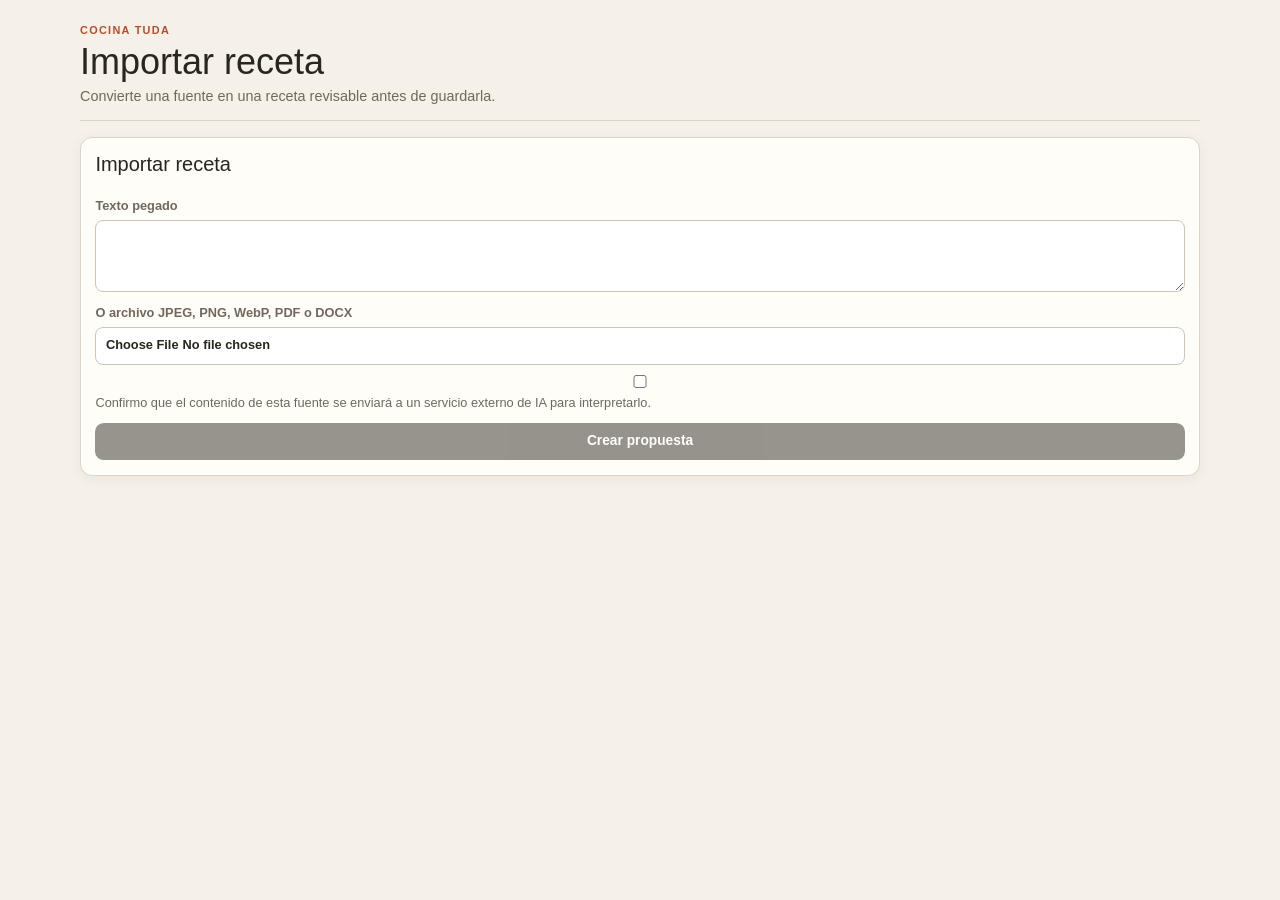
Test: ImportWorkspace › blocks normalized collisions until the user selects the existing entity
Type "receta" into the text box labelled "Texto pegado" at (640, 256), box [95,220,1185,292]
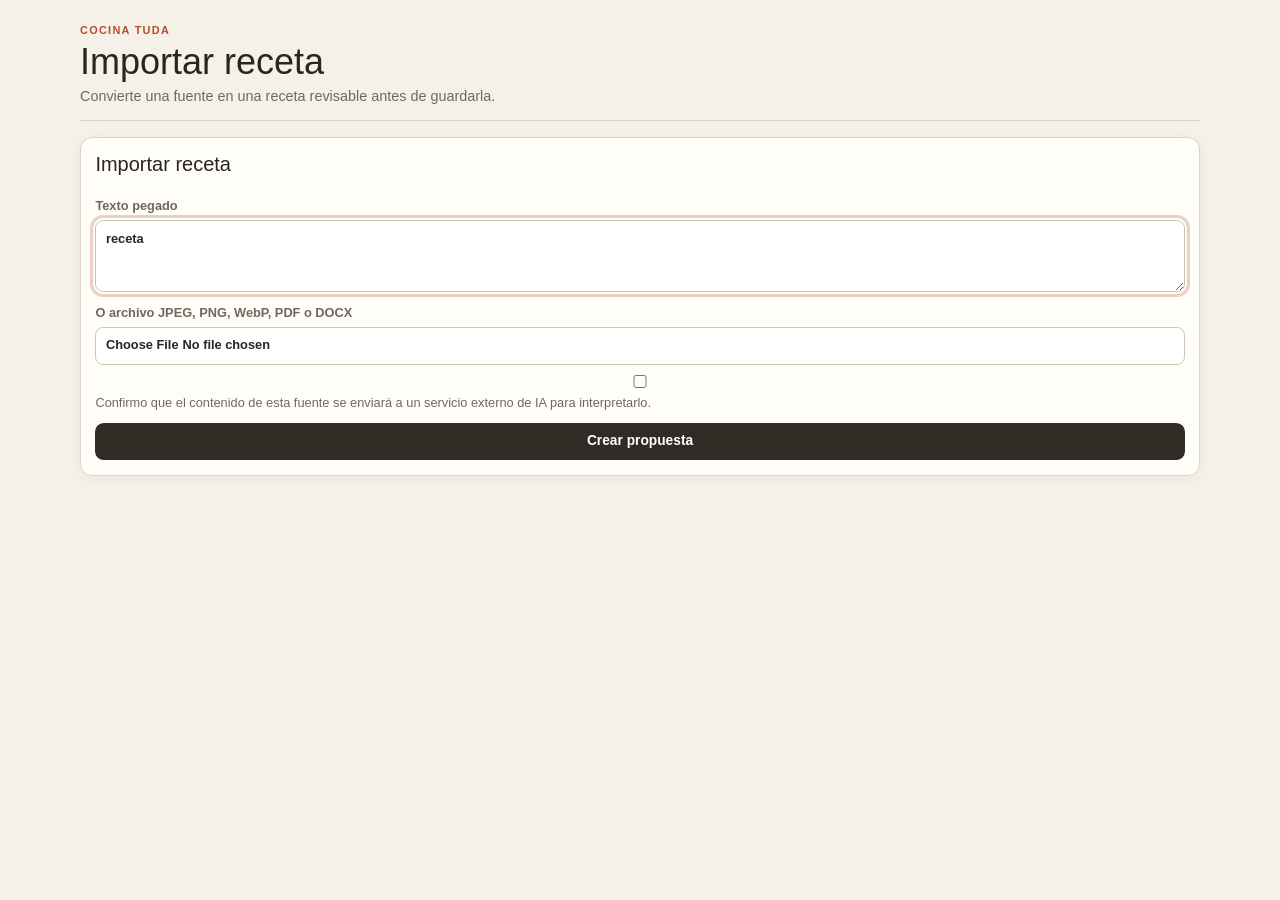
Click the checkbox labelled "Confirmo que el contenido" at (640, 382), box [95,376,1185,388]
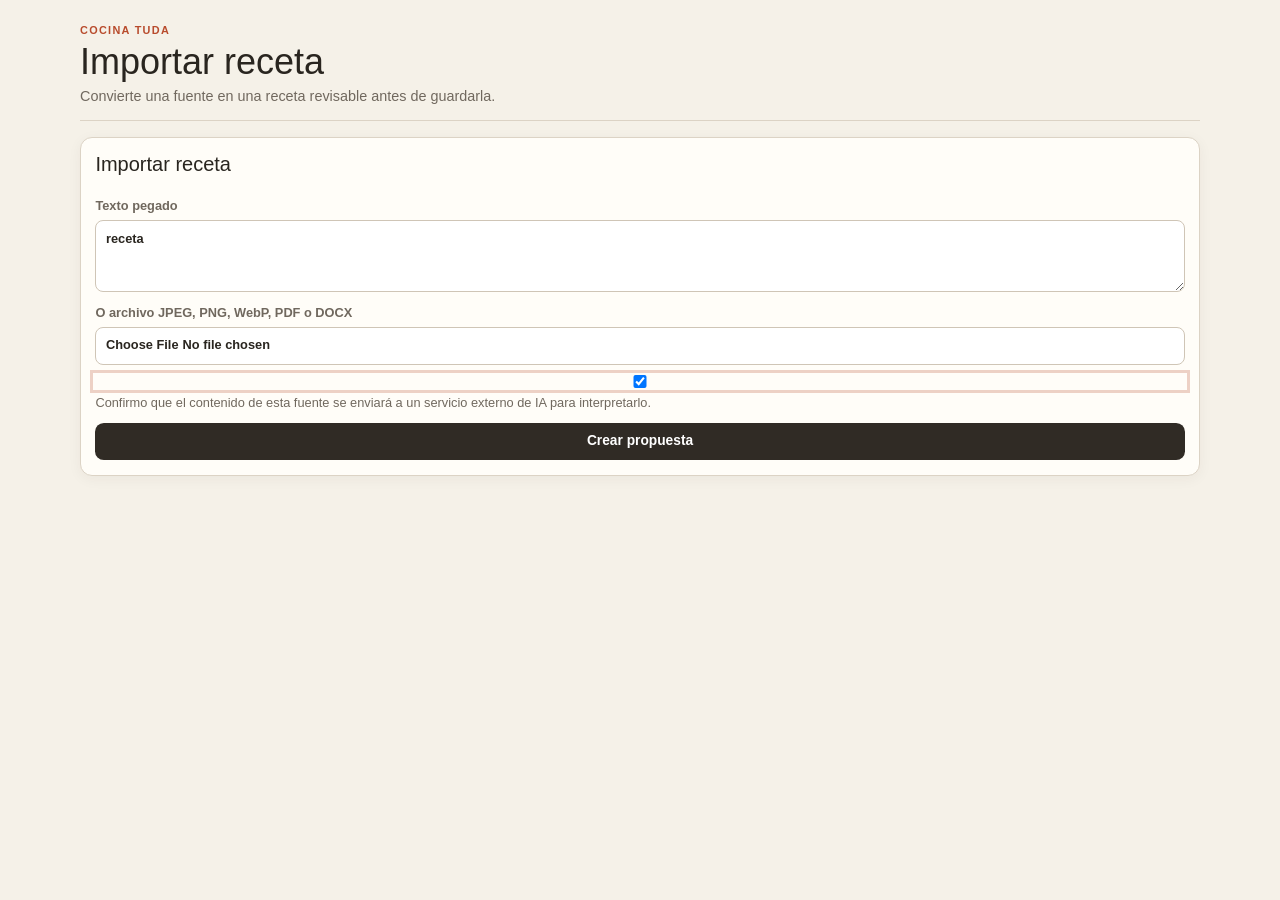
Click the button "Crear propuesta" at (640, 442), box [95,423,1185,460]
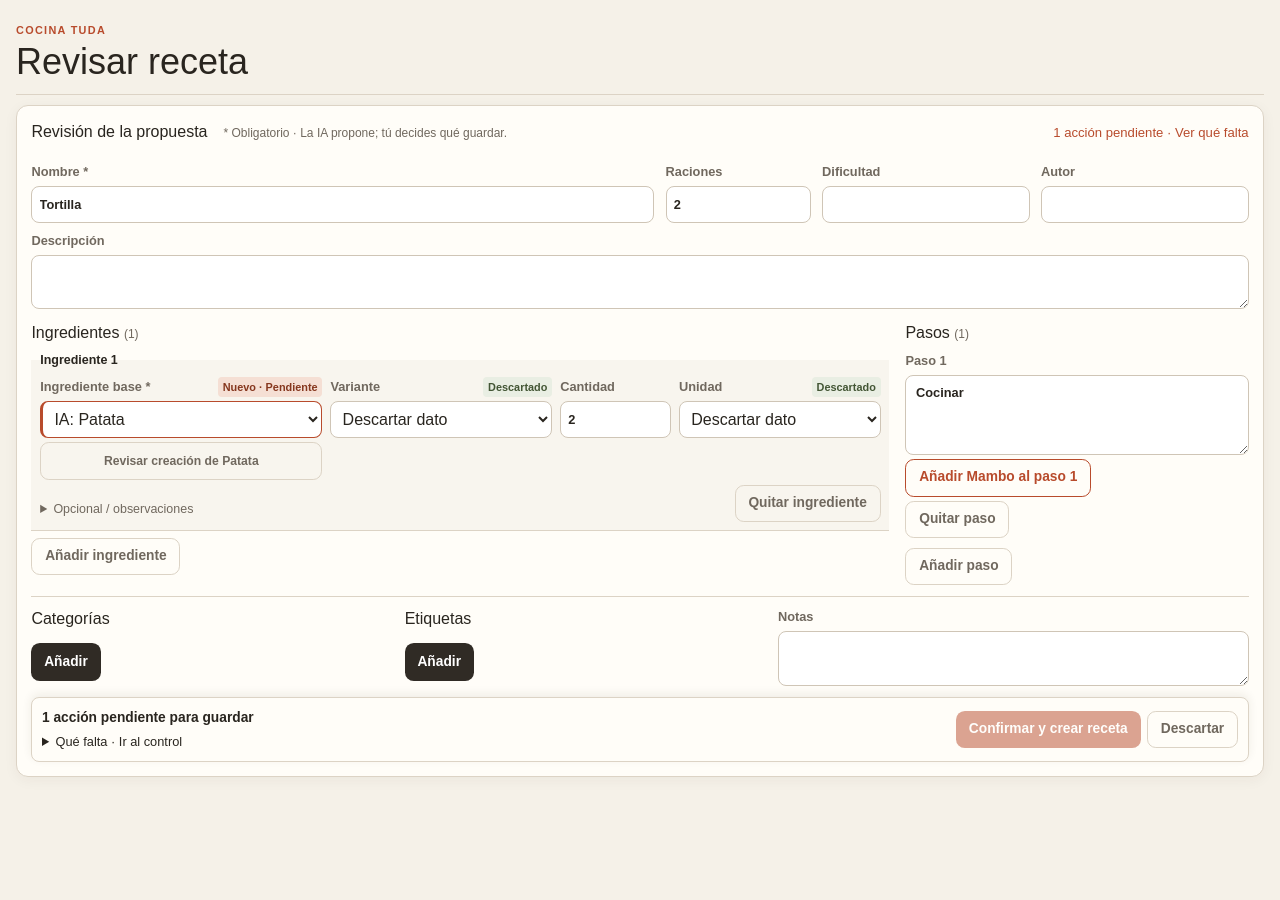
Click the button "Revisar creación de Patata" at (181, 461), box [40,442,322,480]
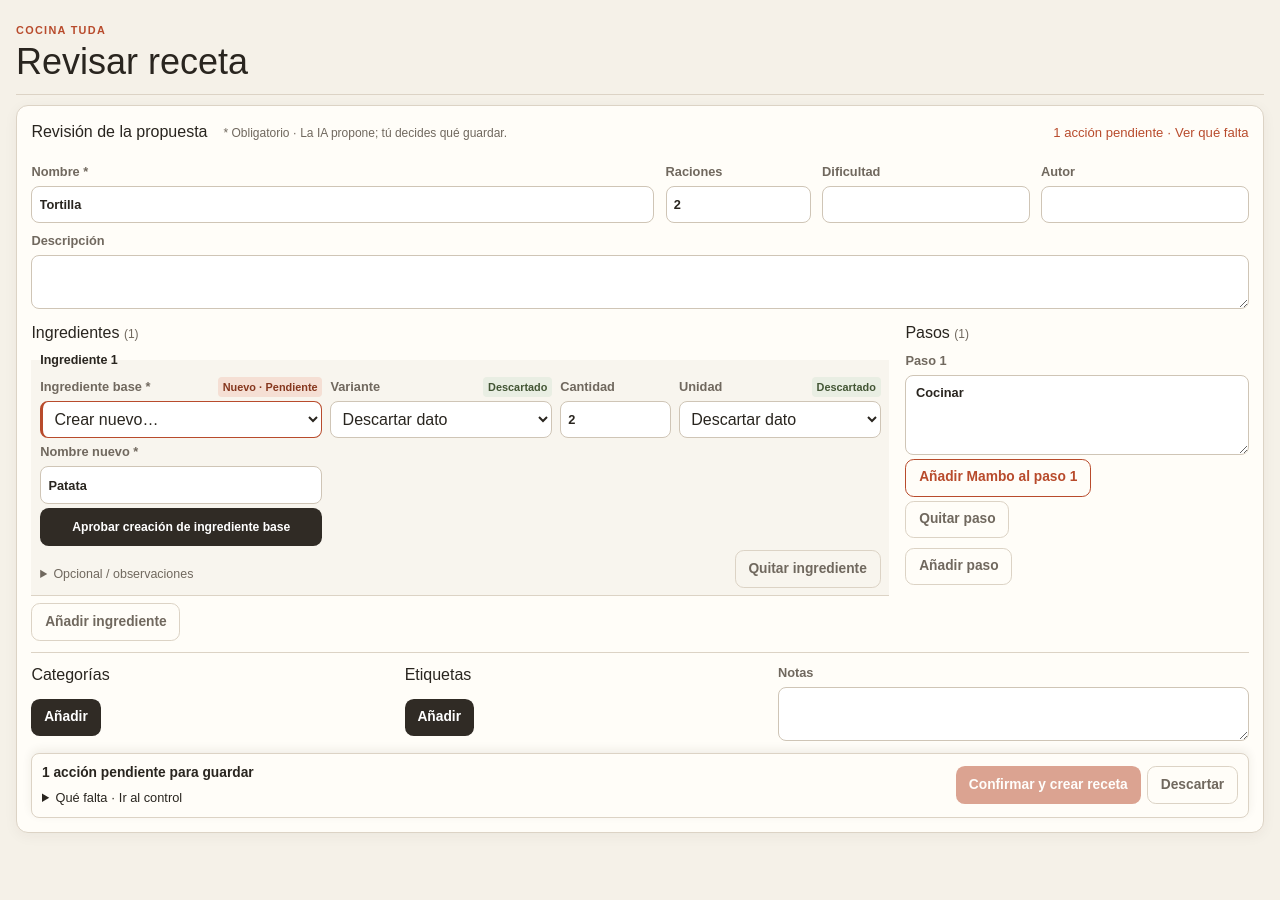
Replace the text in the field named "Ingrediente base nuevo nombre" with "  TÓMATE  " at (181, 485), box [40,466,322,504]
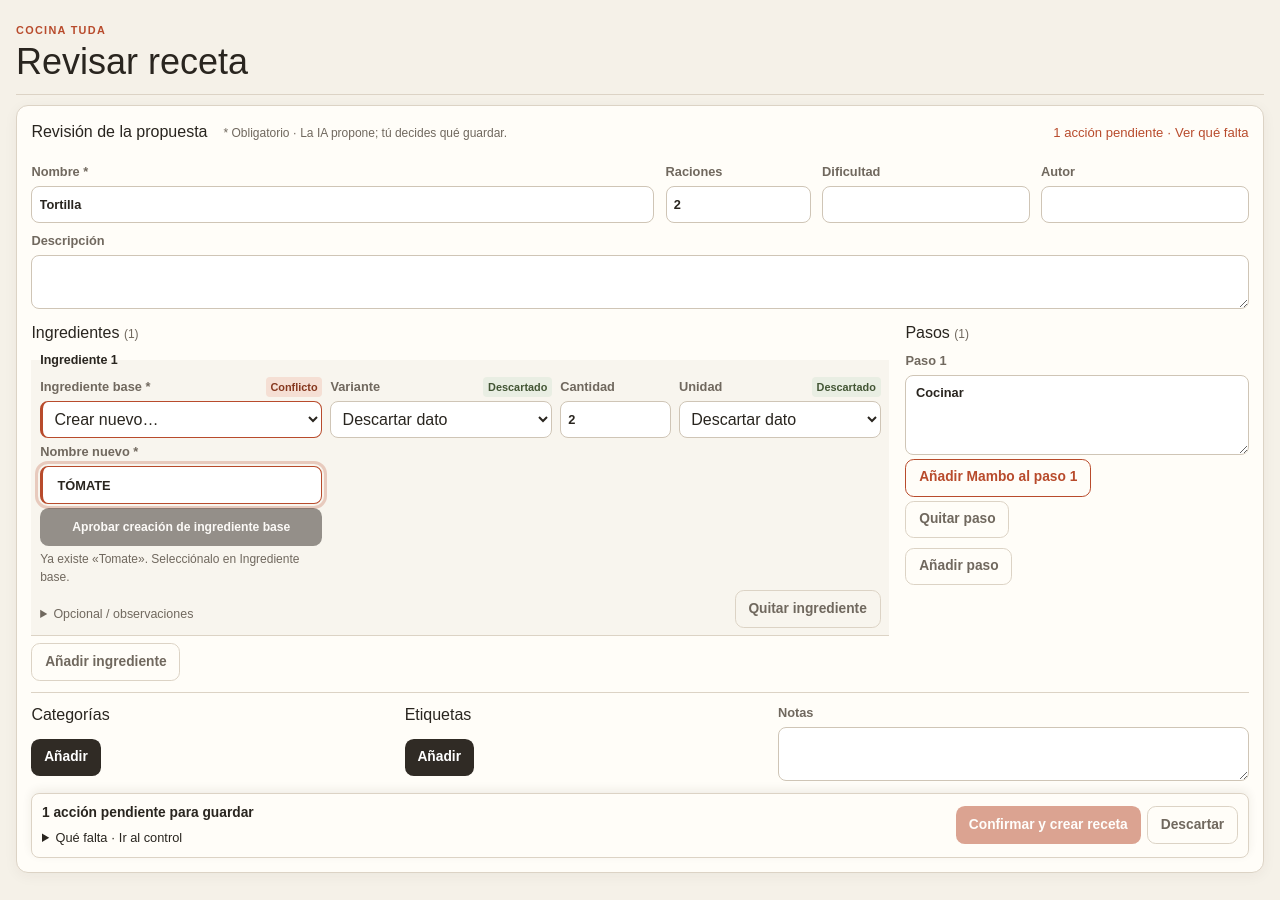
expect the button "Aprobar creación de ingrediente base" is disabled: met, box [40,508,322,546]
expect the button "Confirmar y crear receta" is disabled: met, box [956,806,1141,844]
expect the text "Ya existe «Tomate». Selecciónalo en Ingrediente base." is shown: met, box [40,550,322,586]
Select "Tomate" in the dropdown named "Ingrediente base" at (181, 420), box [40,401,322,438]
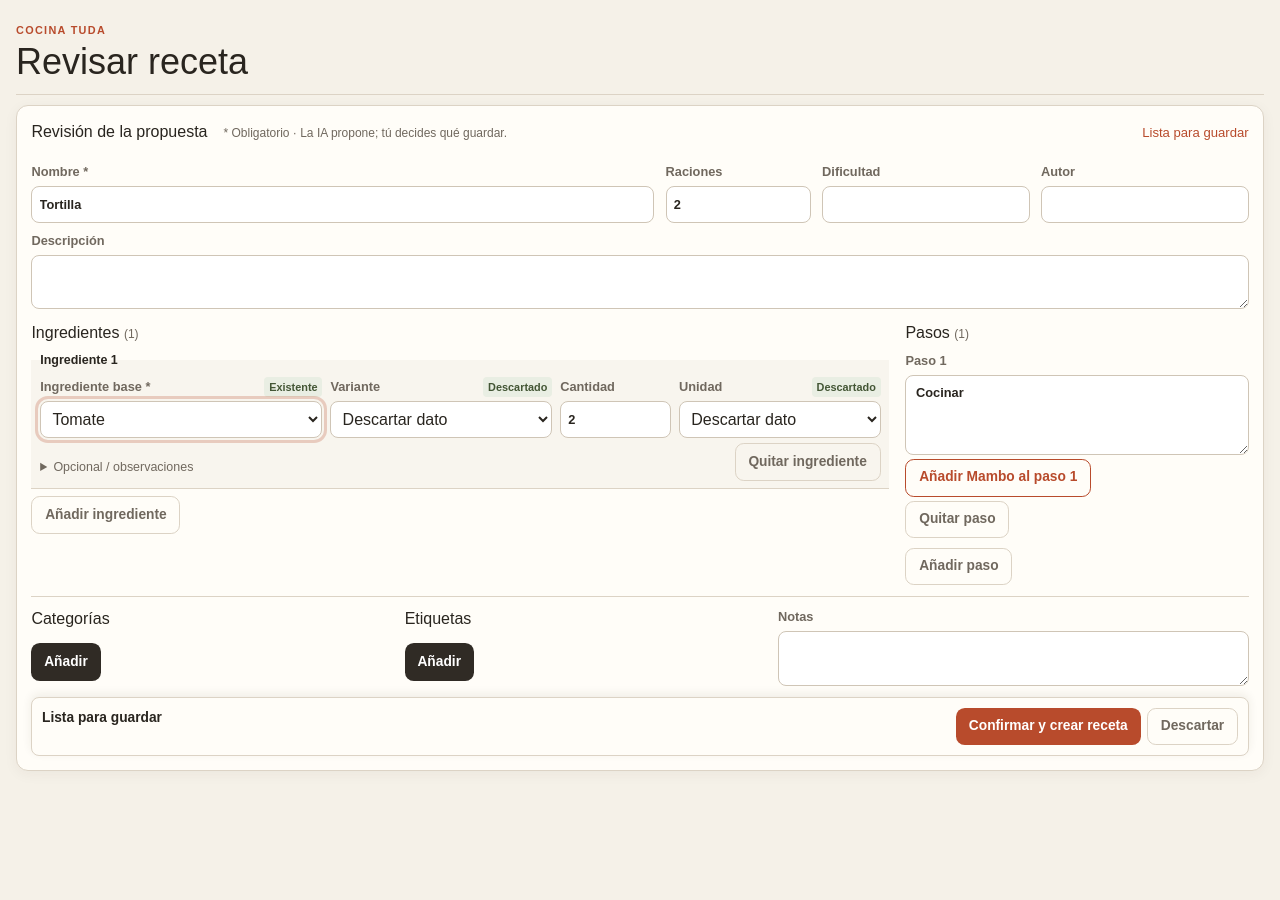
expect the button "Confirmar y crear receta" is enabled: met, box [956,708,1141,745]
